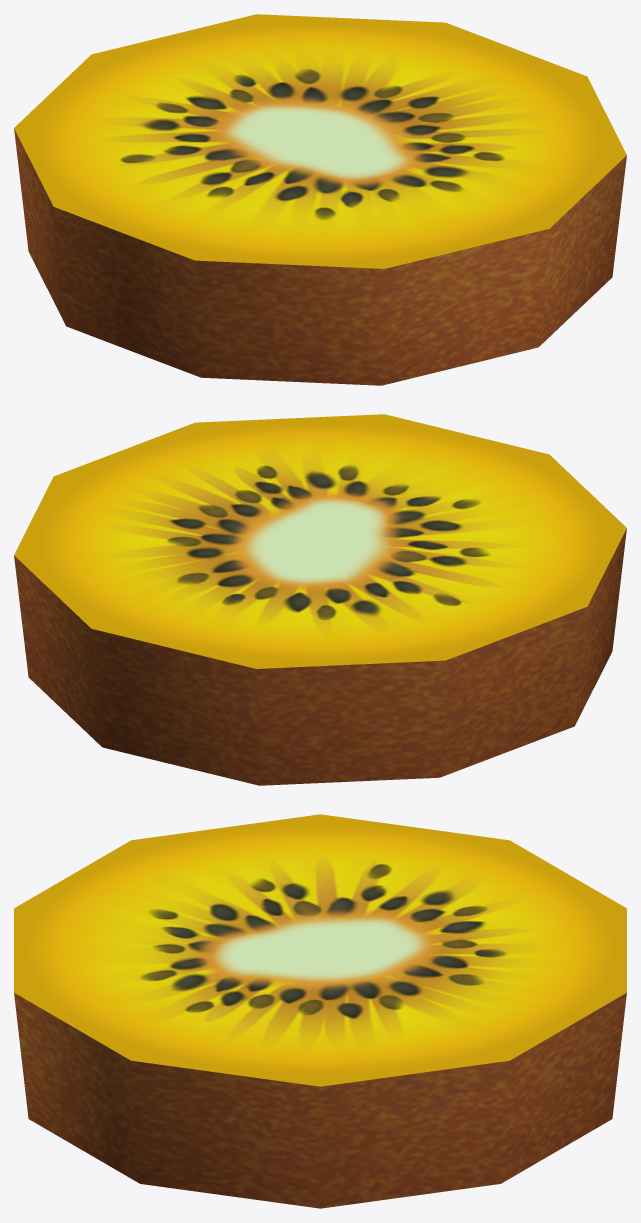
Rendered from Kiwi_Yellow_Slice.fbx.
3 views of the same model, one above another, from view 1: azimuth 30°, elevation 25°; view 2: azimuth 150°, elevation 25°; view 3: azimuth 270°, elevation 25° (orthographic). The views are drawn at different scales.
Parts seen in each view (by area): view 1: Kiwi_Yellow_Slice; view 2: Kiwi_Yellow_Slice; view 3: Kiwi_Yellow_Slice.
Boxes of the visible parts, x1,y1,x2,y2 form: Kiwi_Yellow_Slice: (14, 14, 626, 385); Kiwi_Yellow_Slice: (14, 414, 626, 785); Kiwi_Yellow_Slice: (14, 814, 626, 1208).
Bounding box in the file's own units: 23.64 × 5.2 × 22.49.
Materials: 1 (1 with a texture image).
